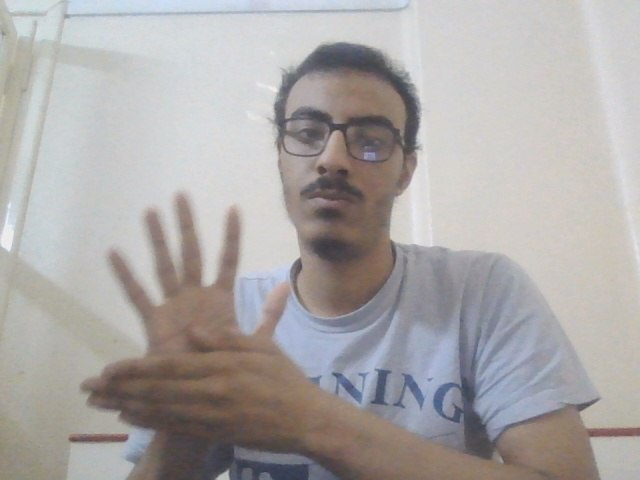Movie: (74, 183, 333, 453)
